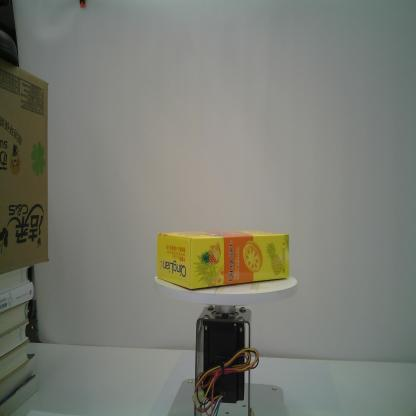Dessert: (156, 226, 291, 290)
